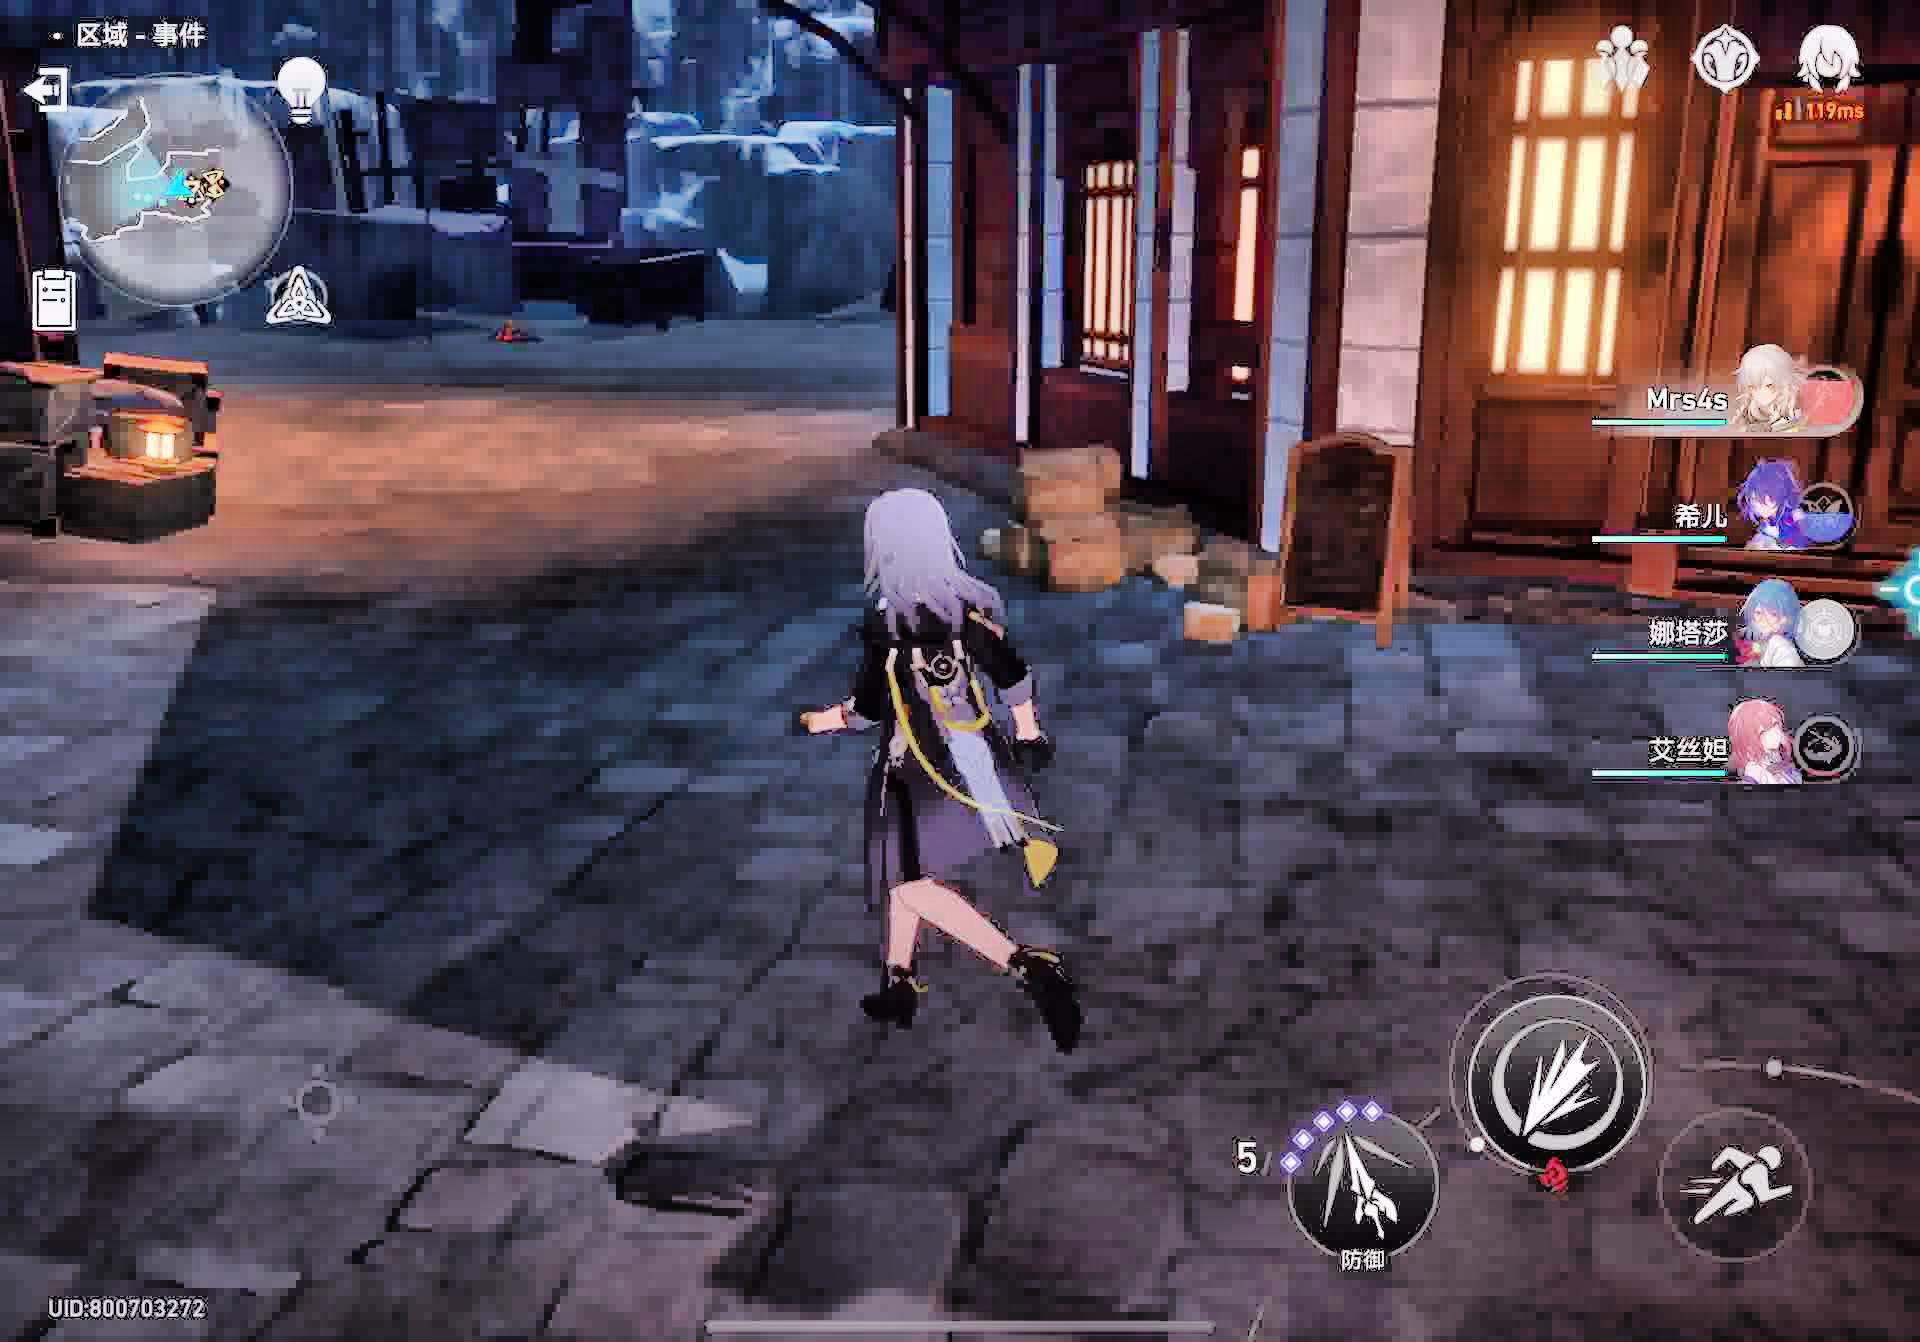Self: (797, 486, 1097, 1087)
